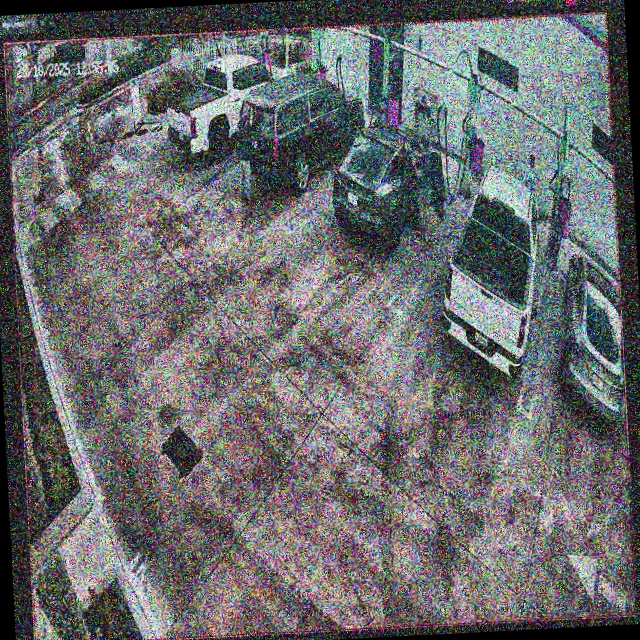Car: (436, 163, 554, 382), (235, 76, 369, 193), (330, 121, 449, 251), (163, 53, 295, 165)
